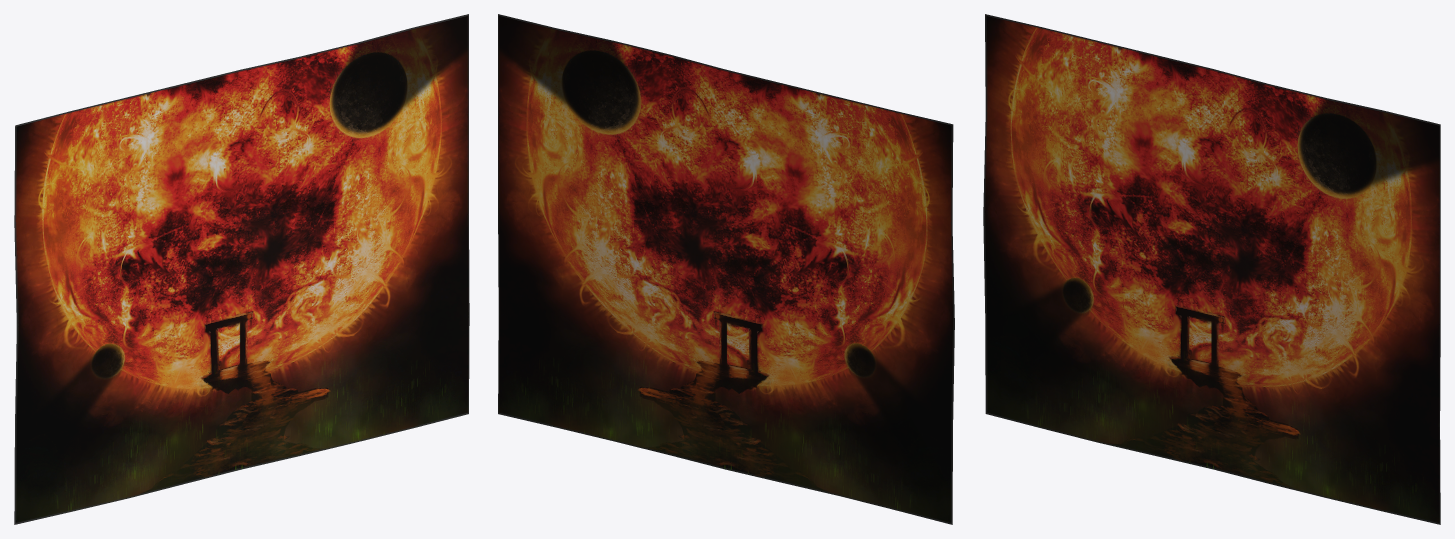
File: 02_05_konrad_extra_poster_sun.dae
3 renders of one model, left to right at view 1: azimuth 30°, elevation 25°; view 2: azimuth 150°, elevation 25°; view 3: azimuth 330°, elevation 25°, orthographic.
Parts seen in each view (by area): view 1: poster_motivational; view 2: poster_motivational; view 3: poster_motivational.
Boxes of the visible parts, x1,y1,x2,y2 form: poster_motivational: [14, 14, 469, 524]; poster_motivational: [498, 14, 954, 524]; poster_motivational: [983, 14, 1440, 524].
Bounding box in the file's own units: 123 × 103 × 1.31.
